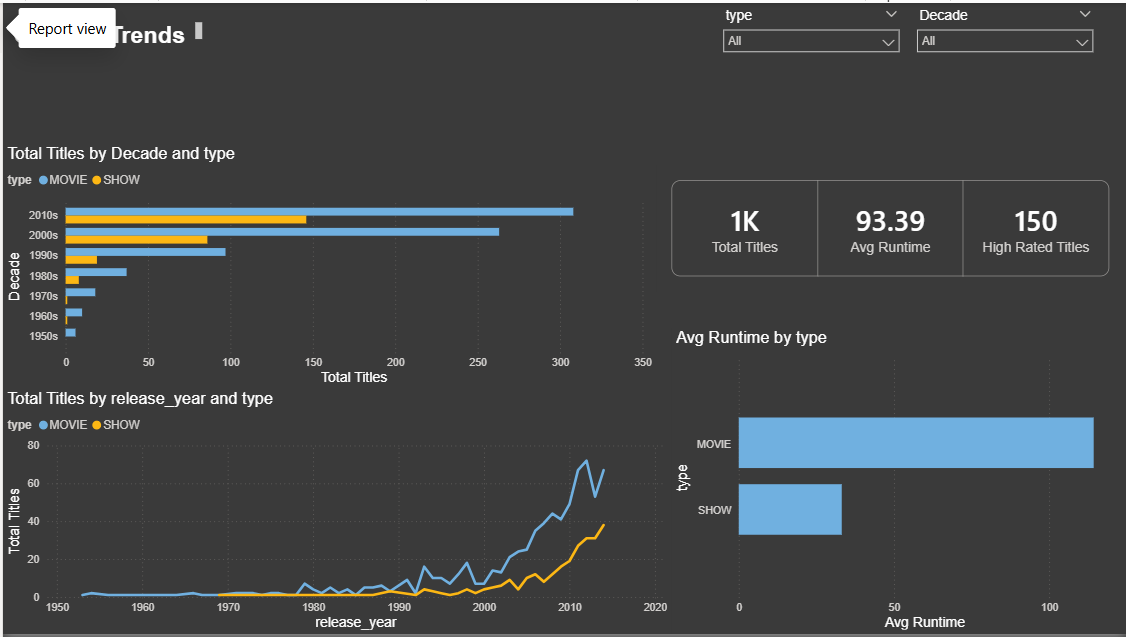

Layout of this report page (visuals, bound fields, positions):
{"tool":"powerbi","page":{"name":" Content Trends","canvas":[1280,720],"ordinal":2},"visuals":[{"type":"lineChart","fields":{"Category":["netflix_clean.release_year"],"Y":["netflix_clean.Total Titles"],"Series":["netflix_clean.type"]},"box":[0,419.8,762.5,279.9],"z":0},{"type":"clusteredBarChart","fields":{"Category":["netflix_clean.Decade"],"Y":["netflix_clean.Total Titles"],"Series":["netflix_clean.type"]},"box":[0,127.9,745.6,278.7],"z":1000},{"type":"clusteredBarChart","fields":{"Category":["netflix_clean.type"],"Y":["netflix_clean.Avg Runtime"]},"box":[762.5,359.5,517.6,349.9],"z":2000},{"type":"cardVisual","fields":{"Data":["netflix_clean.Total Titles","netflix_clean.Avg Runtime","netflix_clean.High Rated Titles"]},"box":[745.5,185.3,534.5,144],"z":3000},{"type":"slicer","fields":{"Values":["netflix_clean.type"]},"box":[811,0,220.9,69.8],"z":4000},{"type":"slicer","fields":{"Values":["netflix_clean.Decade"]},"box":[1032,0,220.9,69.8],"z":5000},{"type":"textbox","box":[0,17.1,232.3,34.2],"z":6000}]}

Visuals, with their boxes on the page's 1280x720 design canvas (x1, y1, x2, y2). These are canvas units, not pixel positions in the 1126x637 screenshot, which may show the page scaled, cropped or inside an application window:
lineChart - netflix_clean.release_year x netflix_clean.Total Titles: 0:420:762:700
clusteredBarChart - netflix_clean.Decade x netflix_clean.Total Titles: 0:128:746:407
clusteredBarChart - netflix_clean.type x netflix_clean.Avg Runtime: 762:360:1280:709
cardVisual - netflix_clean.Total Titles x netflix_clean.Avg Runtime: 746:185:1280:329
slicer - netflix_clean.type: 811:0:1032:70
slicer - netflix_clean.Decade: 1032:0:1253:70
textbox: 0:17:232:51
